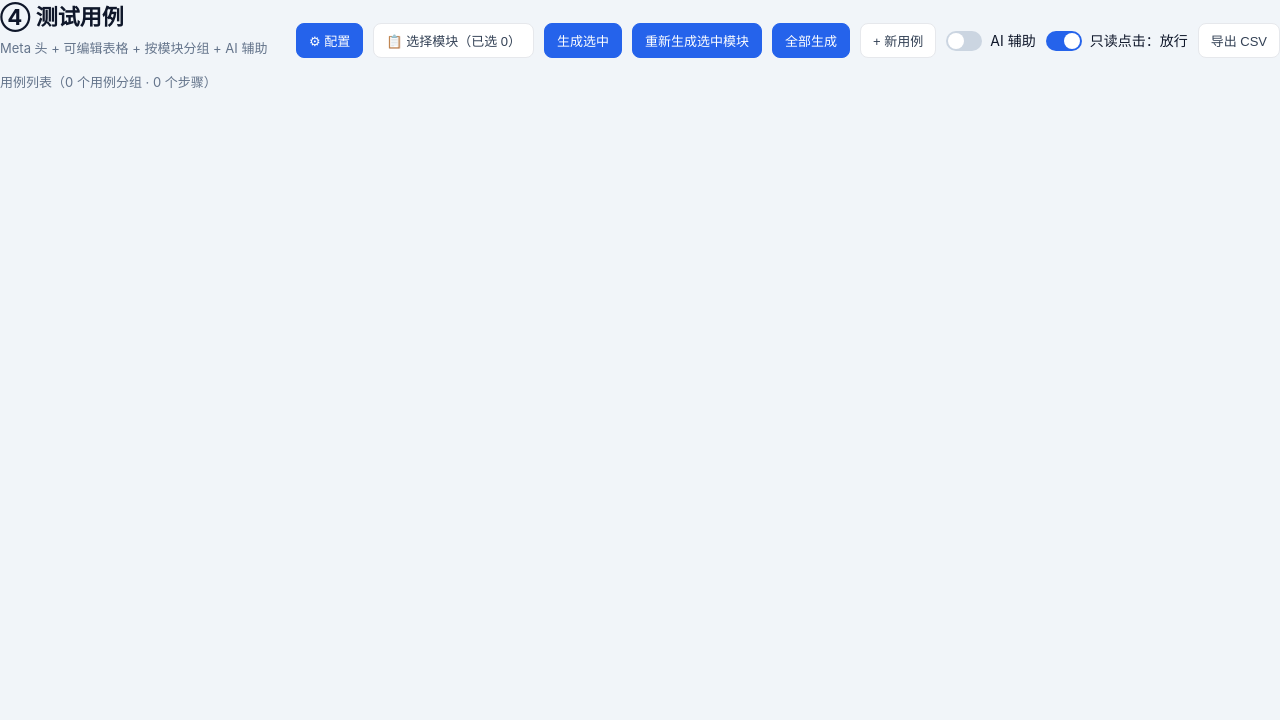
Test: Case 测试用例 › 配置Modal应可打开
Click the button "⚙ 配置".
click(330, 41)  # box [296,23,363,58]
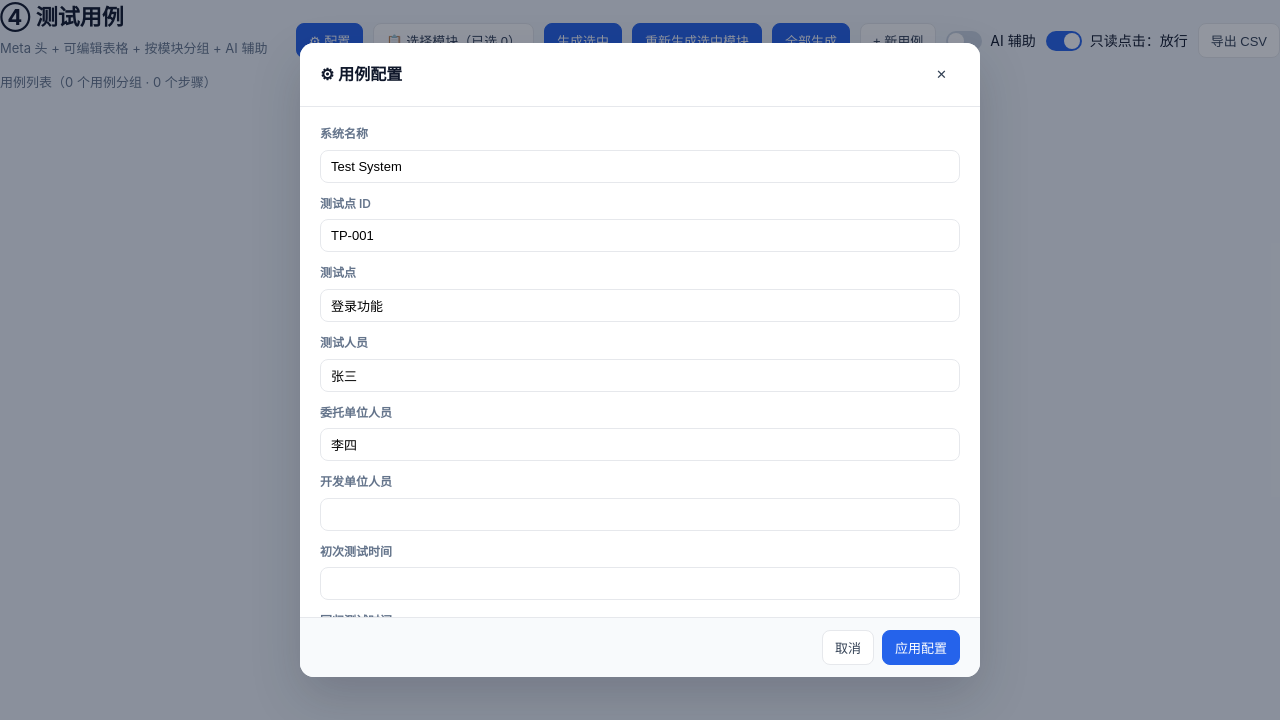
Check: the heading "⚙ 用例配置" is shown, box [320,62,402,87]
